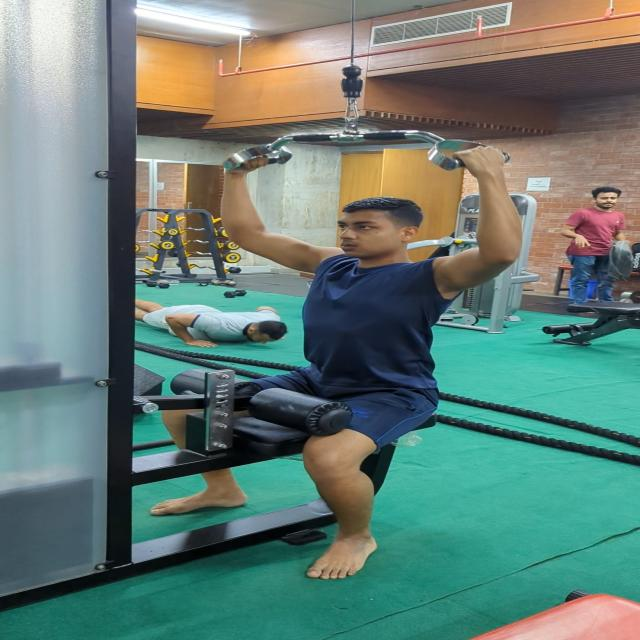Normal_LatPulldown: (148, 145, 536, 592)
